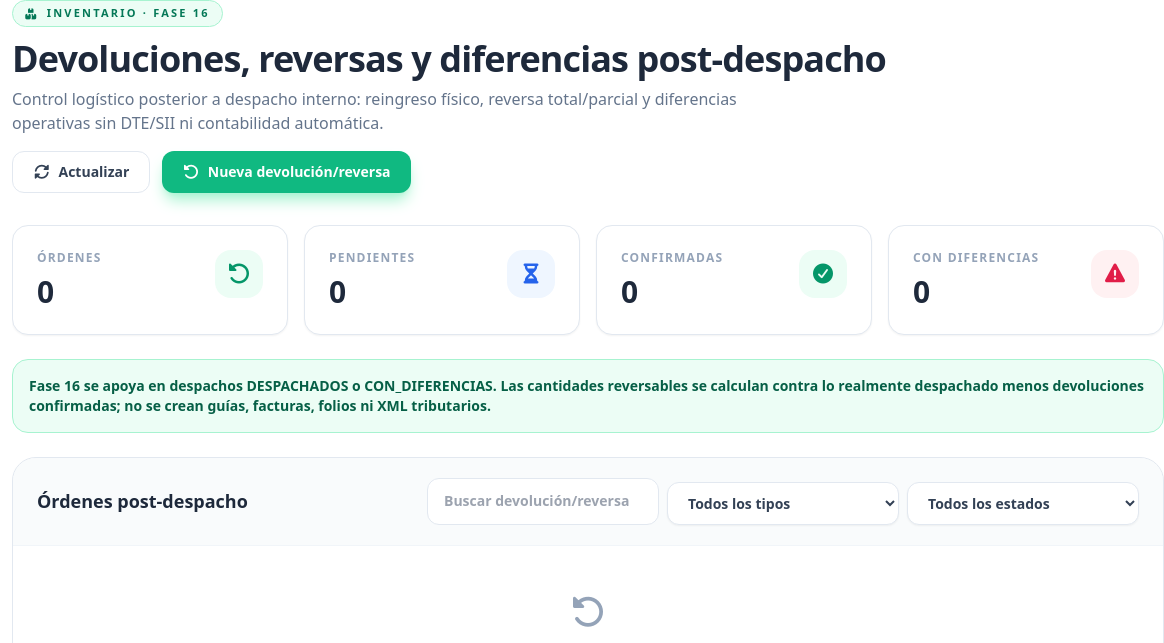
DevolucionesInventario (vista) › cierra el formulario al hacer clic nuevamente en el botón de nueva devolución
Click the button "Nueva devolución/reversa". click: (286, 172)
box: [162,151,411,193]
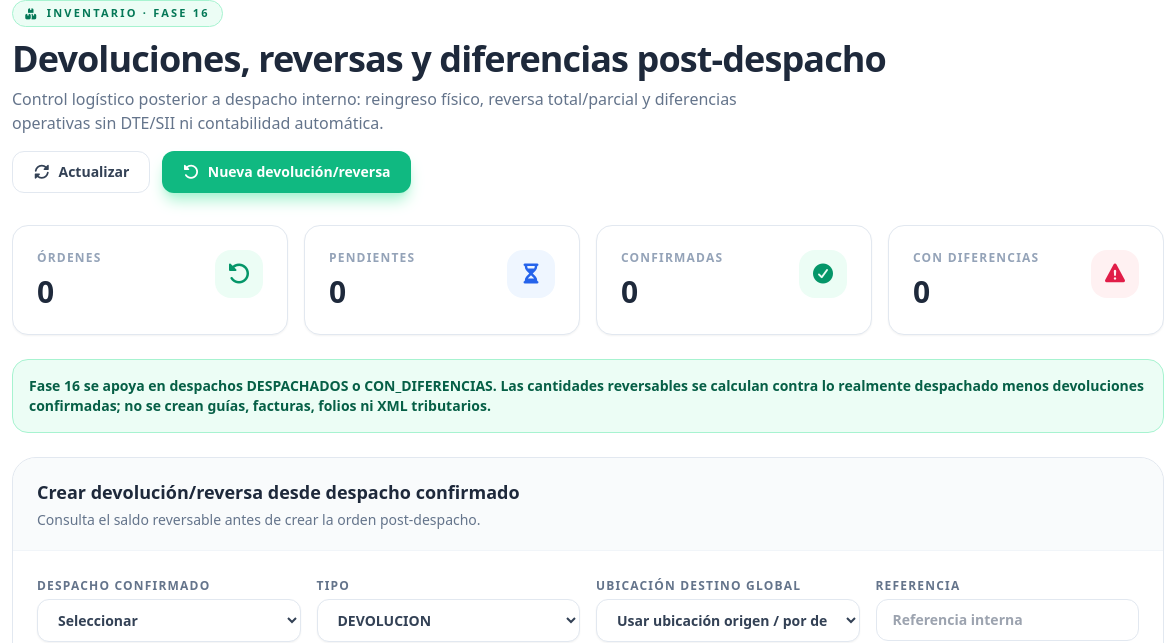
expect the heading "Crear devolución/reversa desde despacho confirmado" is shown: met, box [37,478,520,506]
Click the button "Nueva devolución/reversa". click: (286, 172)
box: [162,151,411,193]
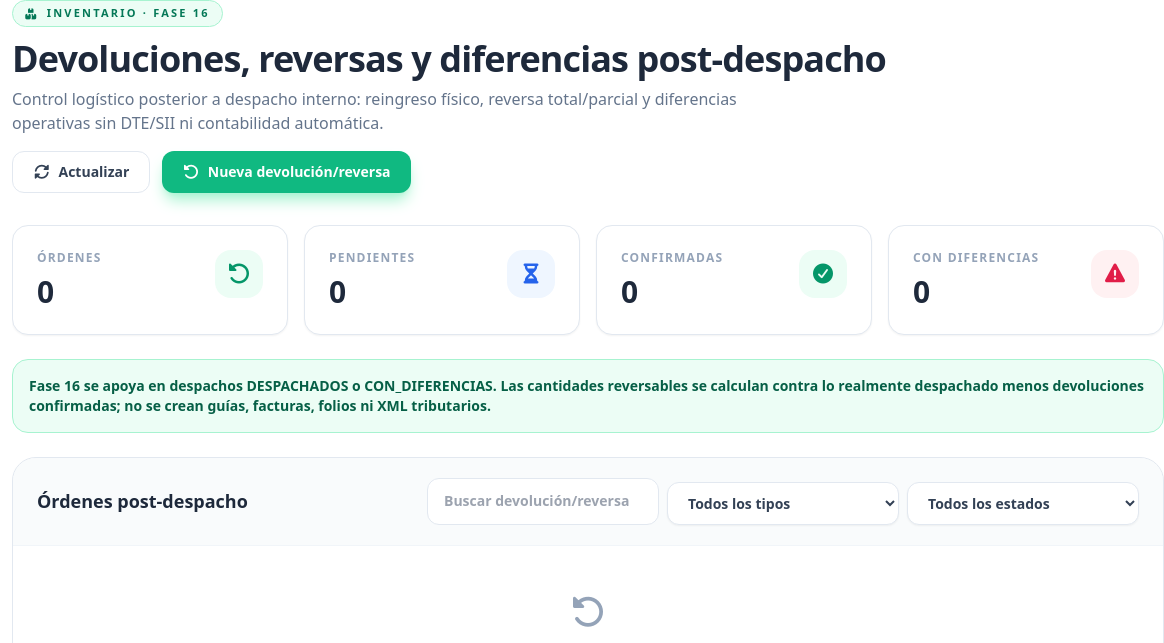
expect the heading "Crear devolución/reversa desde despacho confirmado" is gone: met
